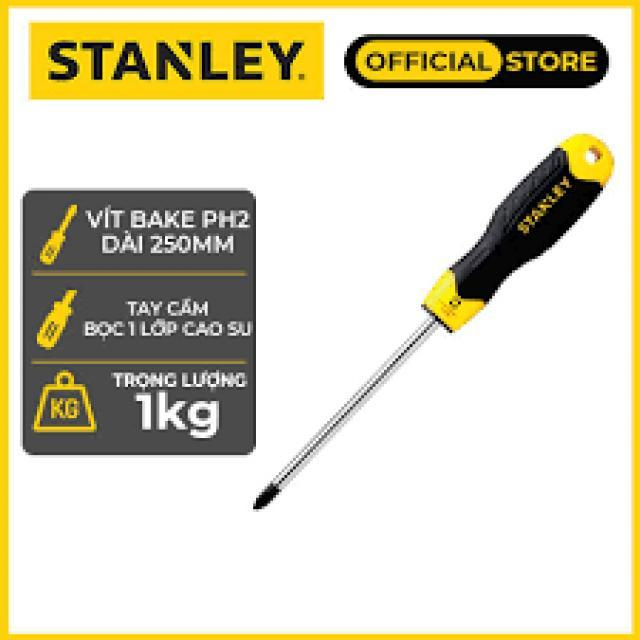screwdriver: (236, 132, 616, 516)
